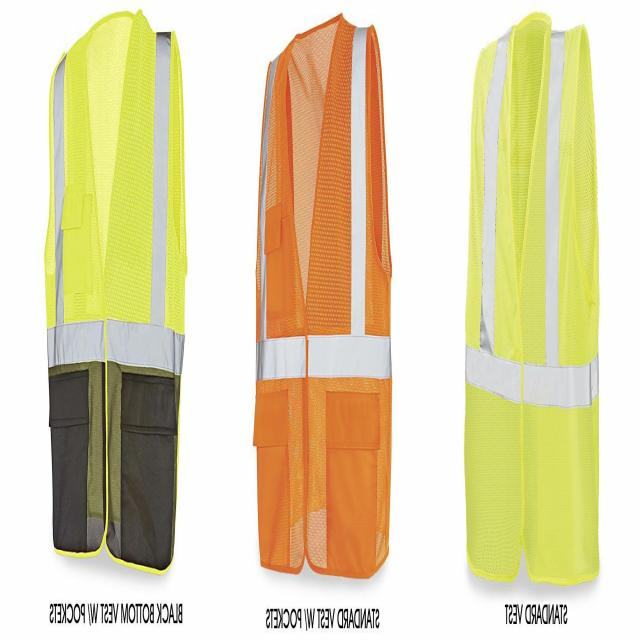Reflective-Jacket: (35, 5, 199, 589), (458, 4, 609, 609), (248, 11, 398, 594)
